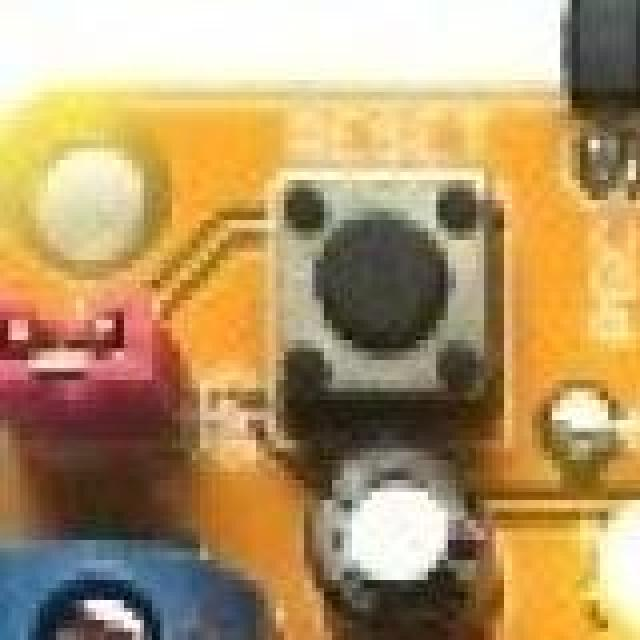LED: (592, 500, 640, 640)
capacitor: (304, 456, 480, 640)
connector: (8, 528, 264, 640), (0, 308, 176, 450), (564, 0, 640, 204)
resistor: (600, 380, 640, 484)
switch: (280, 164, 492, 406)
